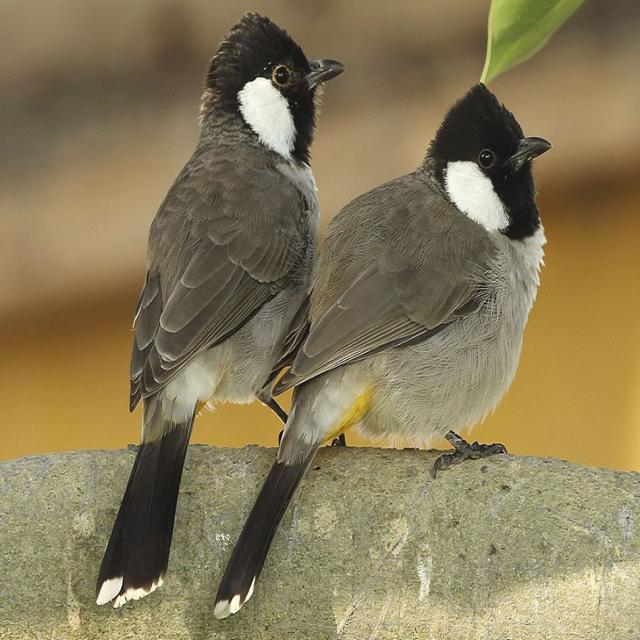bird: (206, 70, 553, 618), (97, 10, 346, 618)
